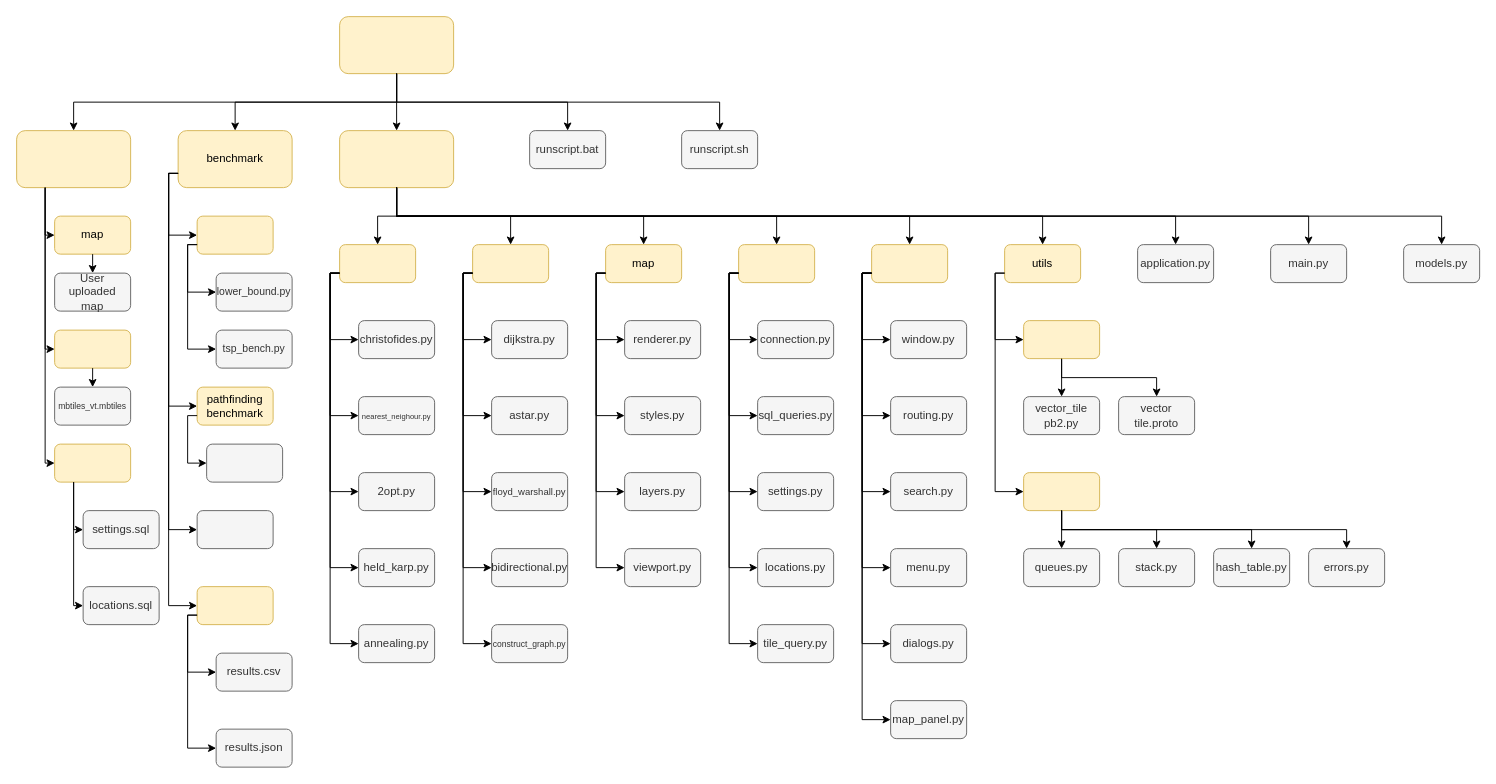
The diagram is 1496 pixels wide and 784 high, and some of its shapes have lost their labels. Here are the shapes that lost their labels. From the top down, the centre of each, then its label:
[396,45]: root folder
[73,159]: data
[396,159]: src
[234,234]: tsp benchmark
[377,263]: tsp
[510,263]: pathfinding
[776,263]: database handling
[909,263]: gui
[92,348]: test
[1061,339]: vector_tile parsing
[92,462]: user
[244,462]: pathfinding_ bench.py
[1061,491]: general-purpose datatypes
[234,529]: benchmark.py
[234,605]: results
